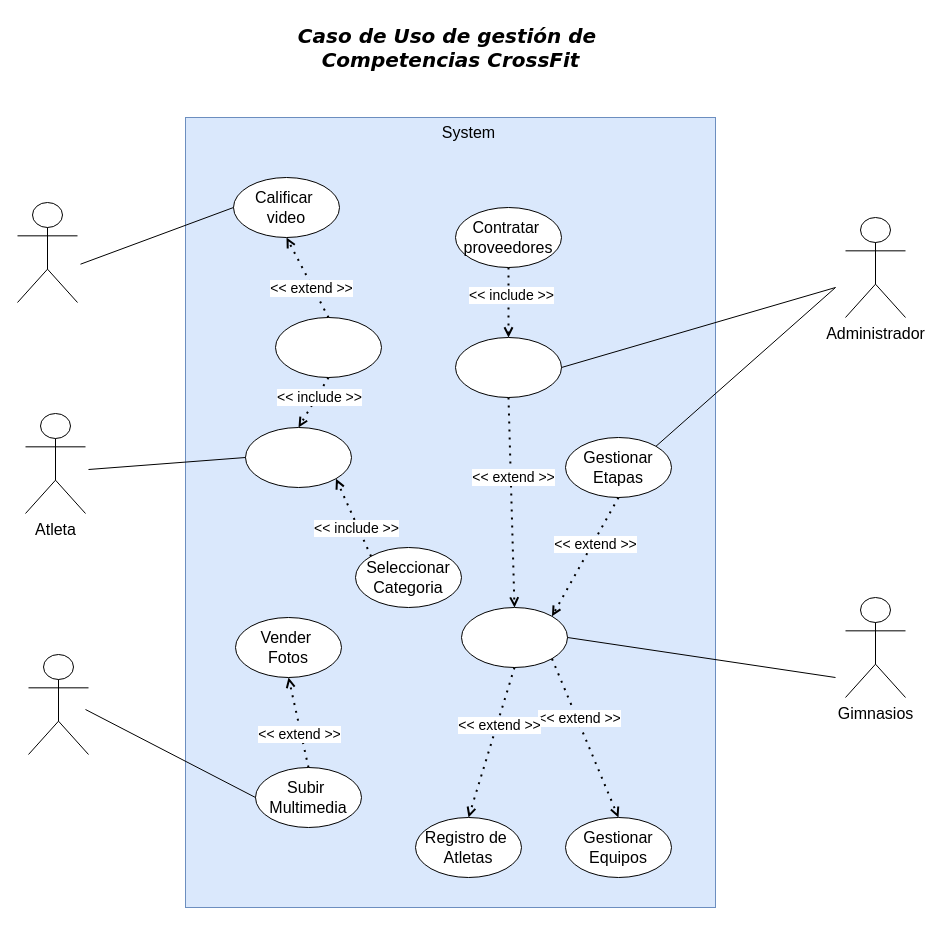
This 942x925 diagram has some shape labels left out. The box of each missing label's shape, as (x1, y1, x2, y2) in pixels:
Fotografo: (28, 654, 88, 754)
Gestionar Competición: (460, 606, 568, 668)
Gestionar Servicios: (454, 336, 562, 398)
Inscribirse: (244, 426, 352, 488)
Jueces: (16, 202, 78, 302)
Subir video: (274, 316, 382, 378)
